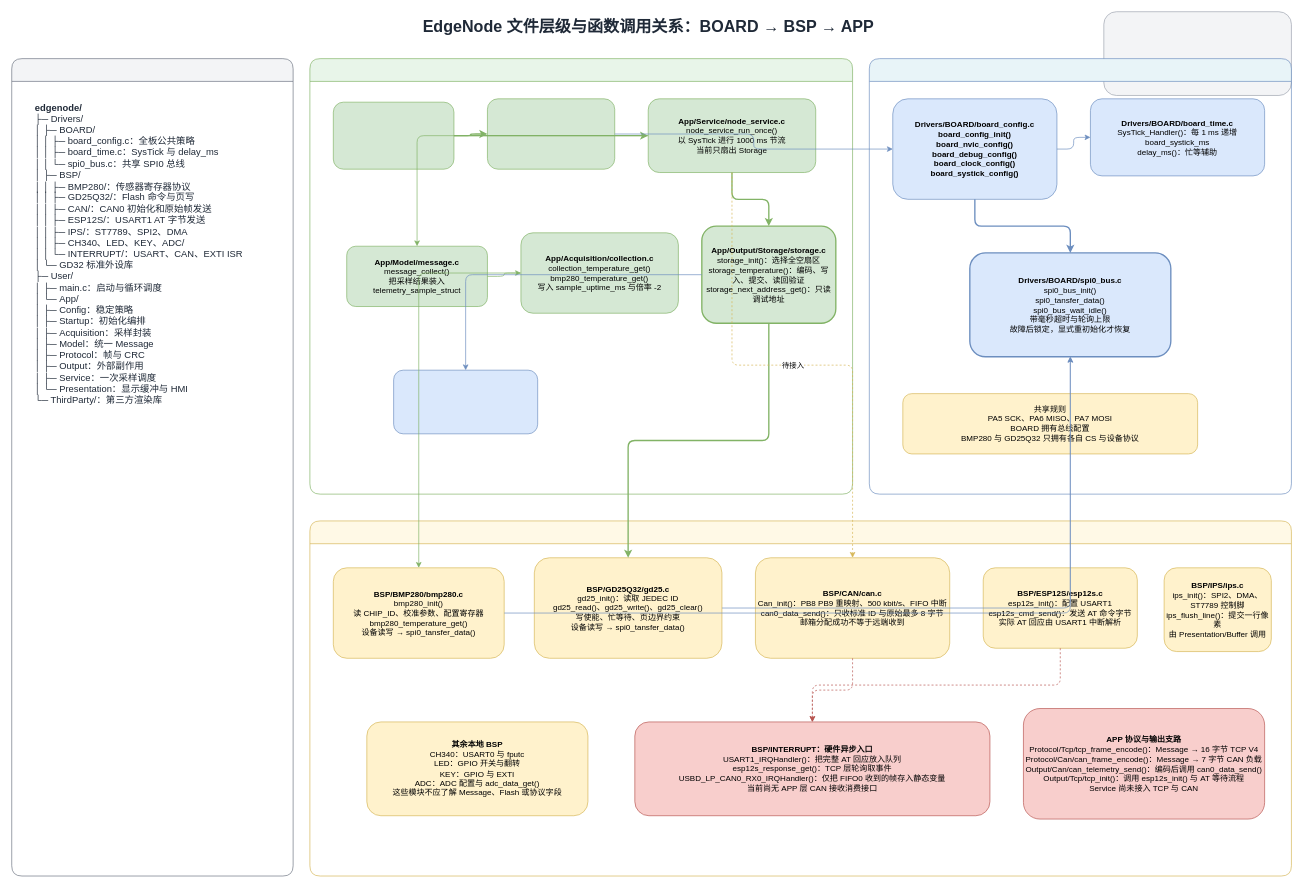
The diagram is 1303 pixels wide and 888 high, and some of its shapes have lost their labels. The box of each missing label's shape, as (x1, y1, x2, y2) in pixels:
1. 工程文件树：文件应该放在哪里: (11, 58, 293, 876)
2. 当前主调用链：从 main 到一次 Flash 记录: (309, 58, 853, 494)
3. BOARD：共享资源只初始化一次: (869, 58, 1291, 494)
4. BSP：设备本地协议与硬件操作: (309, 520, 1291, 876)
App/Protocol/CRC/crc.c crc32_generate() crc32_check() Storage 与 TCP 复用同一实现: (393, 370, 538, 434)
App/Startup/init.c init_all() 按依赖顺序初始化 失败即返回 INIT_ALL_FAIL: (487, 98, 615, 169)
User/main.c main() init_all() while(1) → node_service_run_once(): (333, 102, 454, 169)
箭头含义 实线：当前直接函数调用 虚线：中断、DMA 或待接入调用 绿色：当前运行主链 蓝色：共享资源 黄色：已有支路 红色：接收或功能缺口: (1103, 11, 1291, 95)
